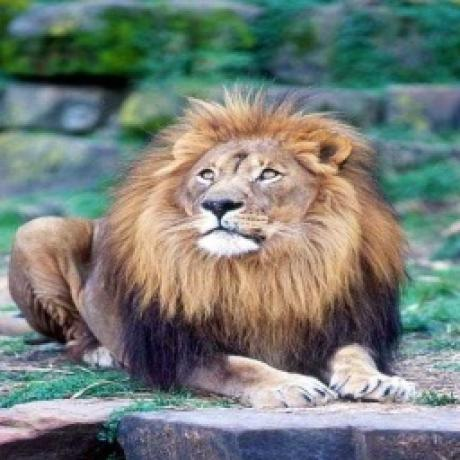Lion: (7, 88, 419, 414)
